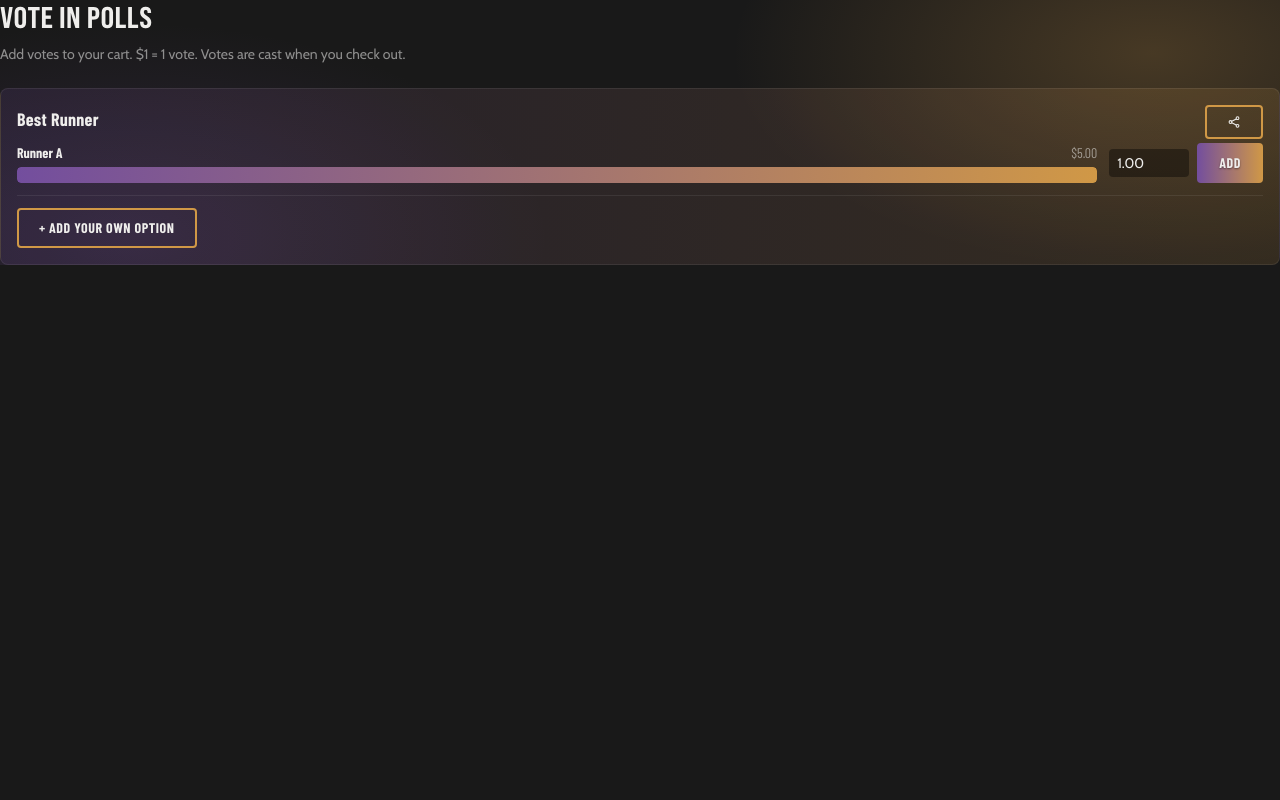
Test: PollList › shows a validation error for an empty write-in label
Click the button "+ add your own option": click(107, 228) [17,208,196,248]
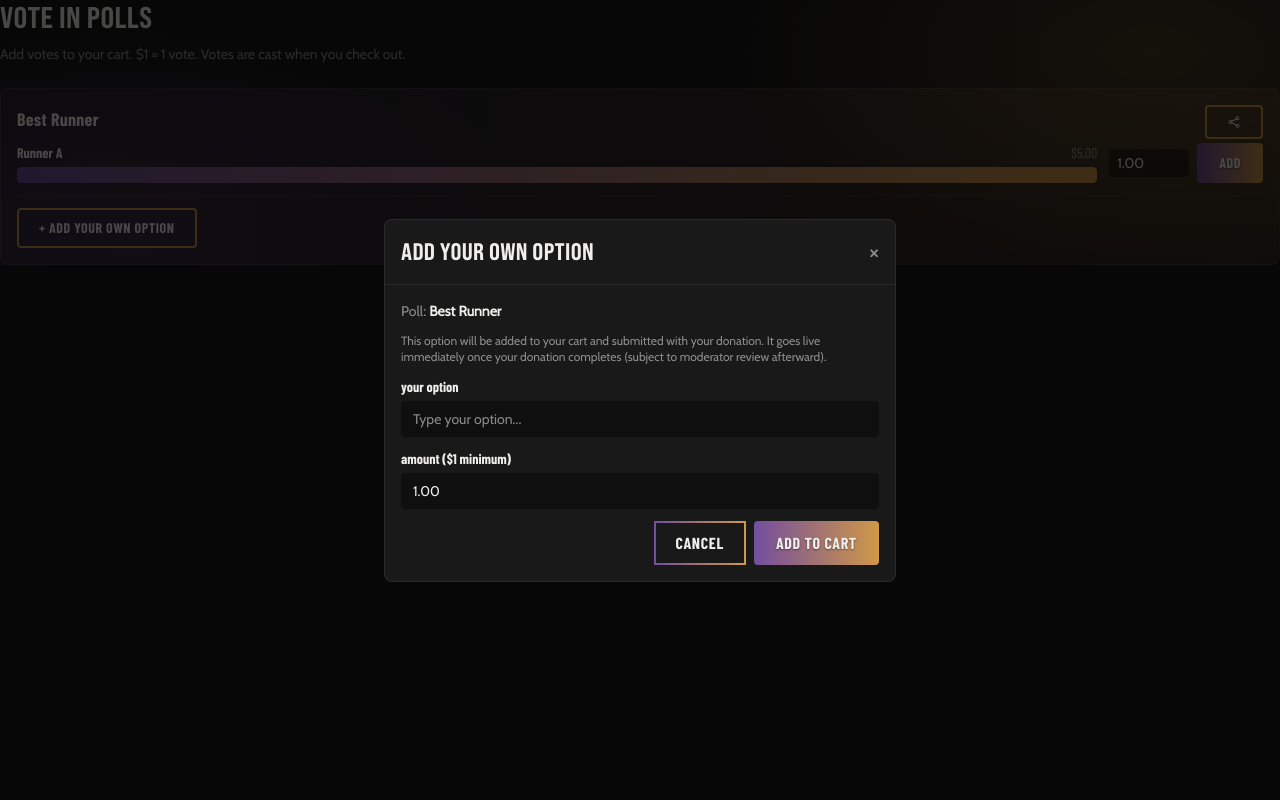
Note: submit without entering a label
Click the button "add to cart": click(816, 542) [754,520,879,564]
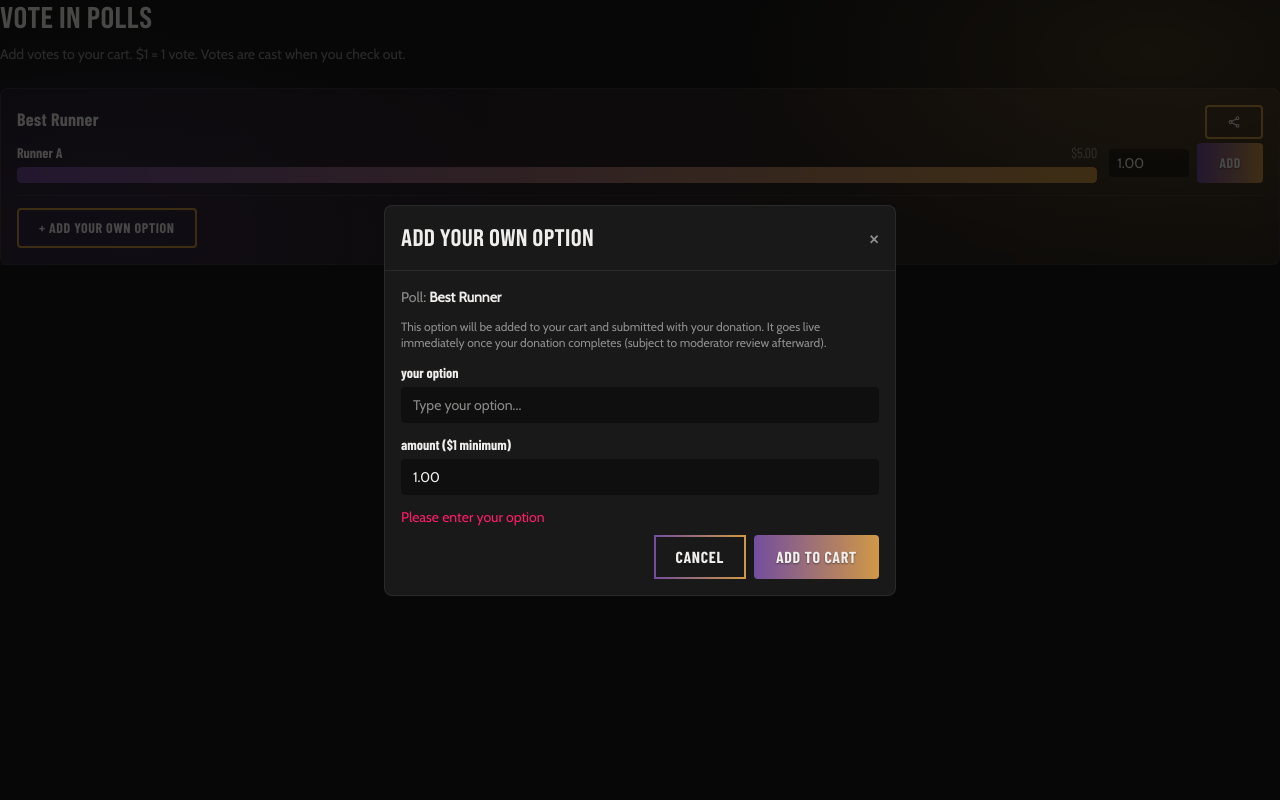
Now the text "Please enter your option" is shown, box [401,508,545,526]
